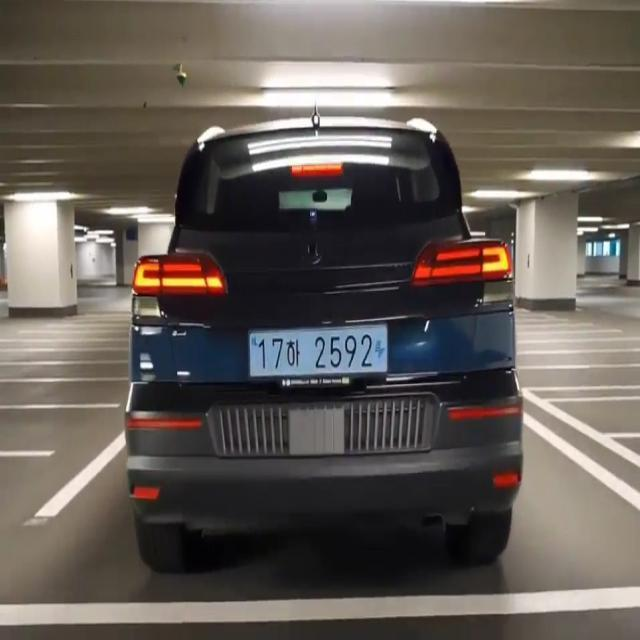car: (250, 319, 388, 376)
carev: (371, 326, 387, 379), (245, 335, 261, 382)
